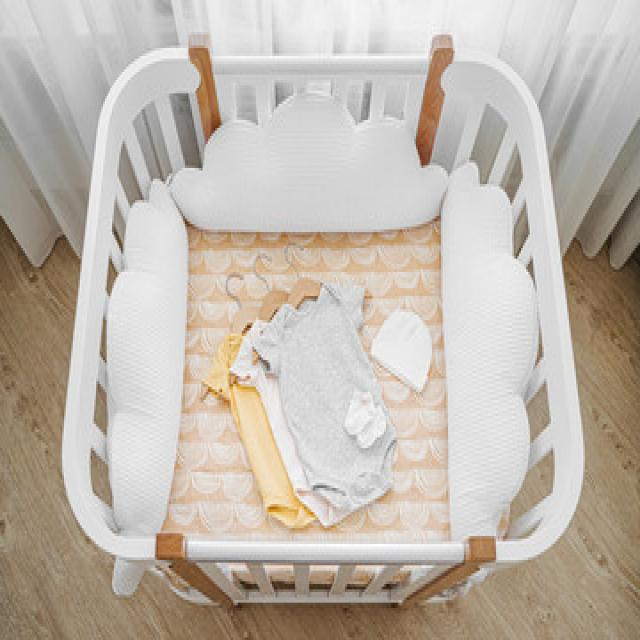crib: (59, 32, 585, 608)
